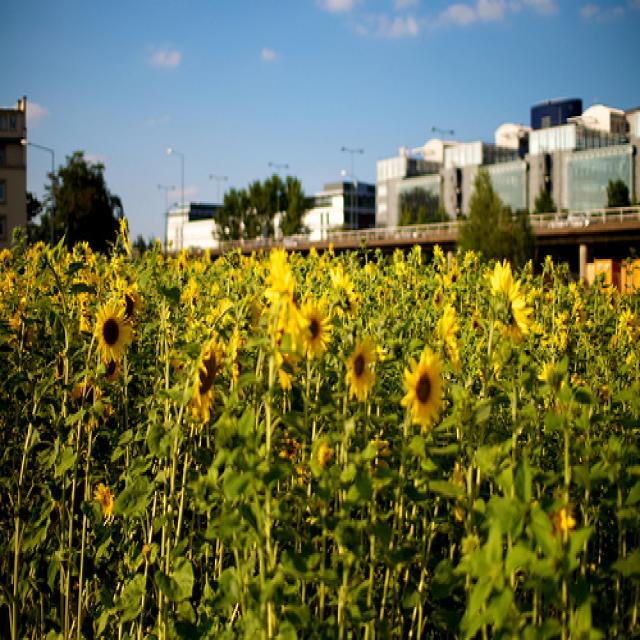sunflower: (400, 346, 450, 435), (186, 334, 222, 424), (94, 294, 133, 367), (298, 293, 330, 366), (344, 334, 375, 396)
